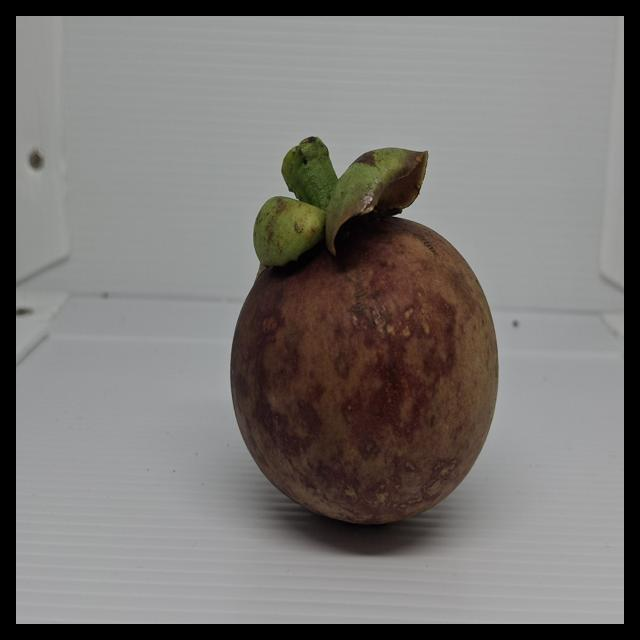mangosteen: (205, 107, 566, 550)
